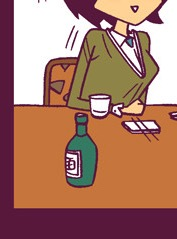bottle: (62, 110, 100, 191)
cup: (87, 91, 113, 120)
